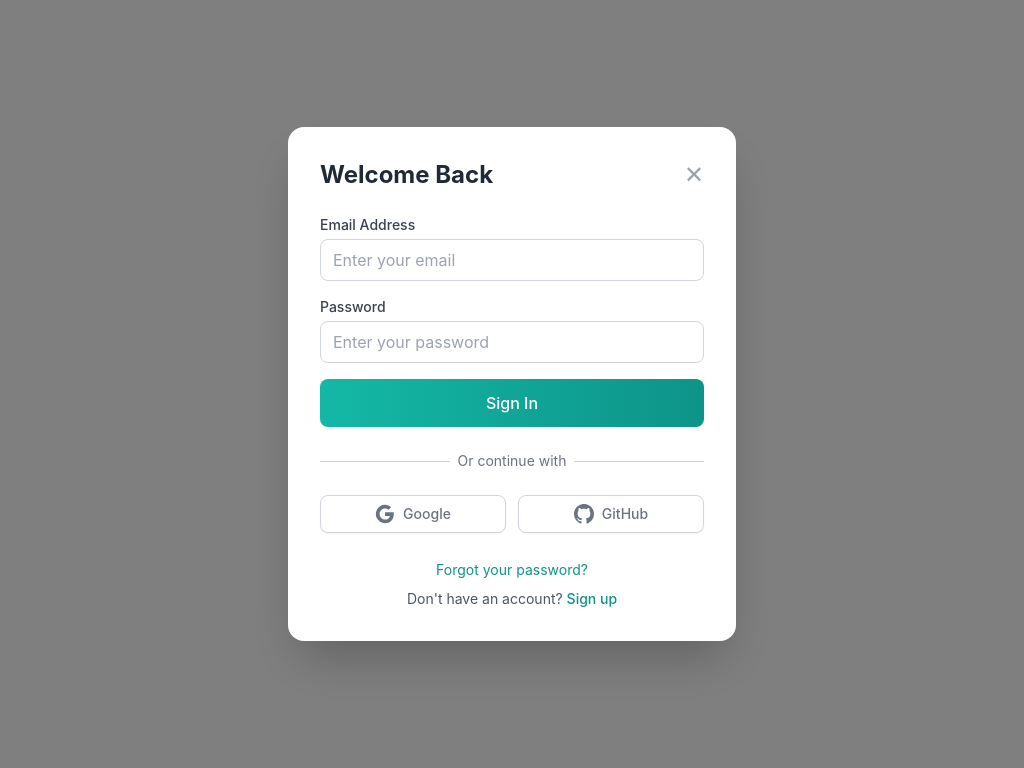
Test: AuthModal Component › shows loading state during form submission
Type "test@example.com" into the field labelled "Email Address" at coordinates (512, 260), box [320,239,704,281]
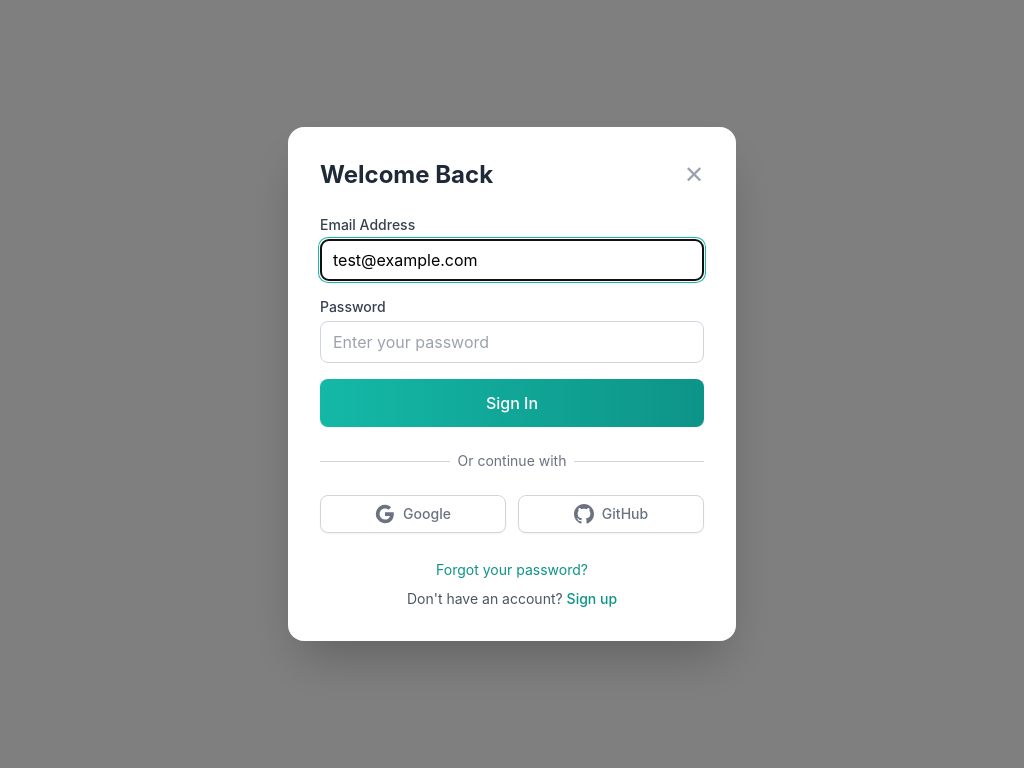
Type "password123" into the password field labelled "Password" at coordinates (512, 342), box [320,321,704,363]
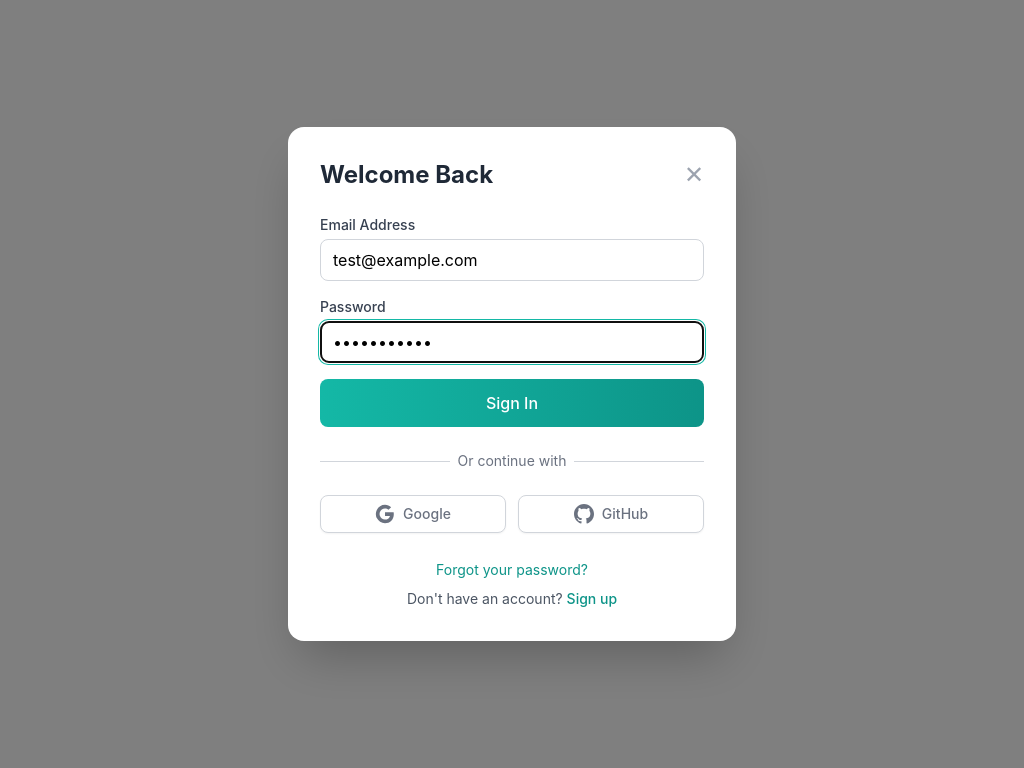
Click the button "Sign In" at coordinates (512, 403), box [320,379,704,427]
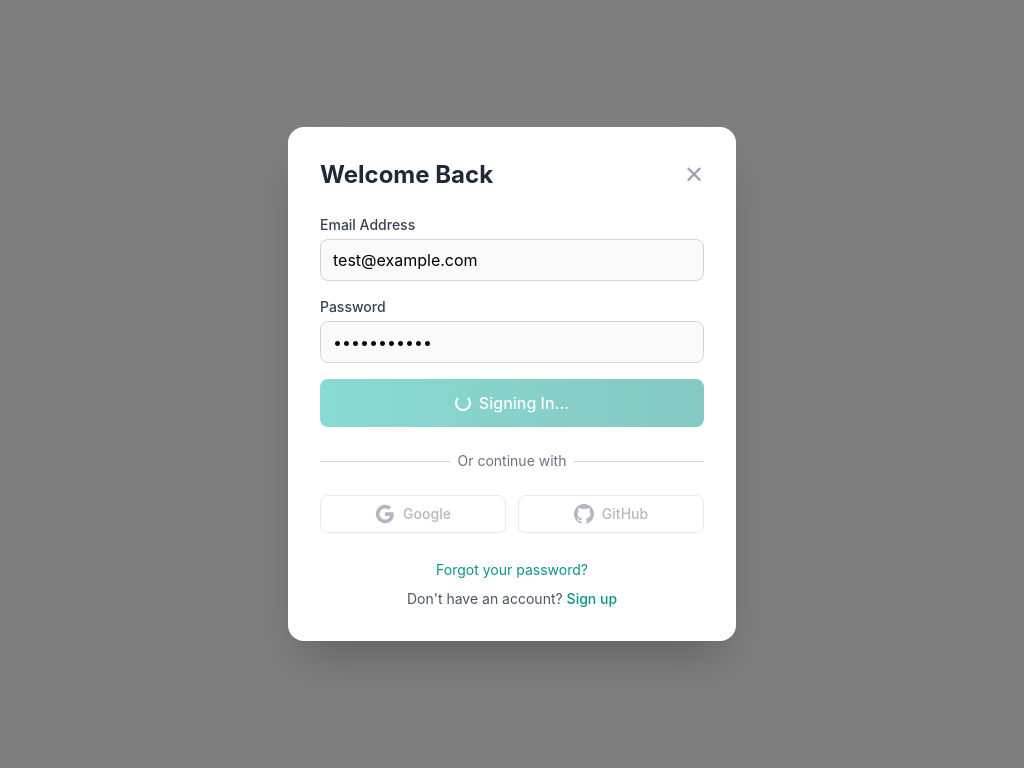
Result: the text "Signing In..." is shown at [455,393,569,413]
Result: the button "Signing In..." is disabled at [320,379,704,427]
